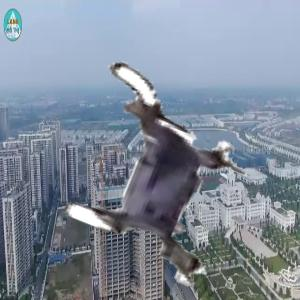drone: (53, 73, 260, 280)
